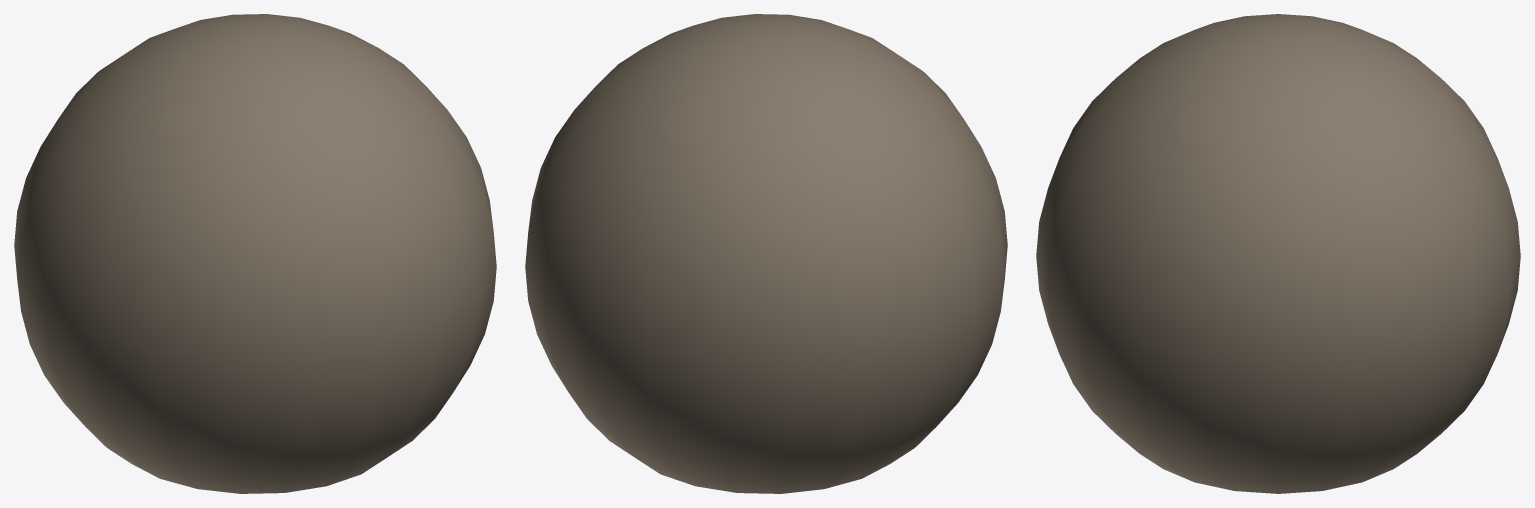
The model's file is buzz.glb.
3 views of the same model, side by side, from view 1: azimuth 30°, elevation 25°; view 2: azimuth 150°, elevation 25°; view 3: azimuth 270°, elevation 25° (orthographic).
Visible parts, largest first — view 1: Hair_buzz; view 2: Hair_buzz; view 3: Hair_buzz.
Boxes of the visible parts, x1=… form: Hair_buzz: x1=14, y1=14, x2=496, y2=493; Hair_buzz: x1=525, y1=14, x2=1007, y2=493; Hair_buzz: x1=1036, y1=14, x2=1520, y2=493.
Size of the model in its own units: 2.04 by 1.85 by 2.04.
